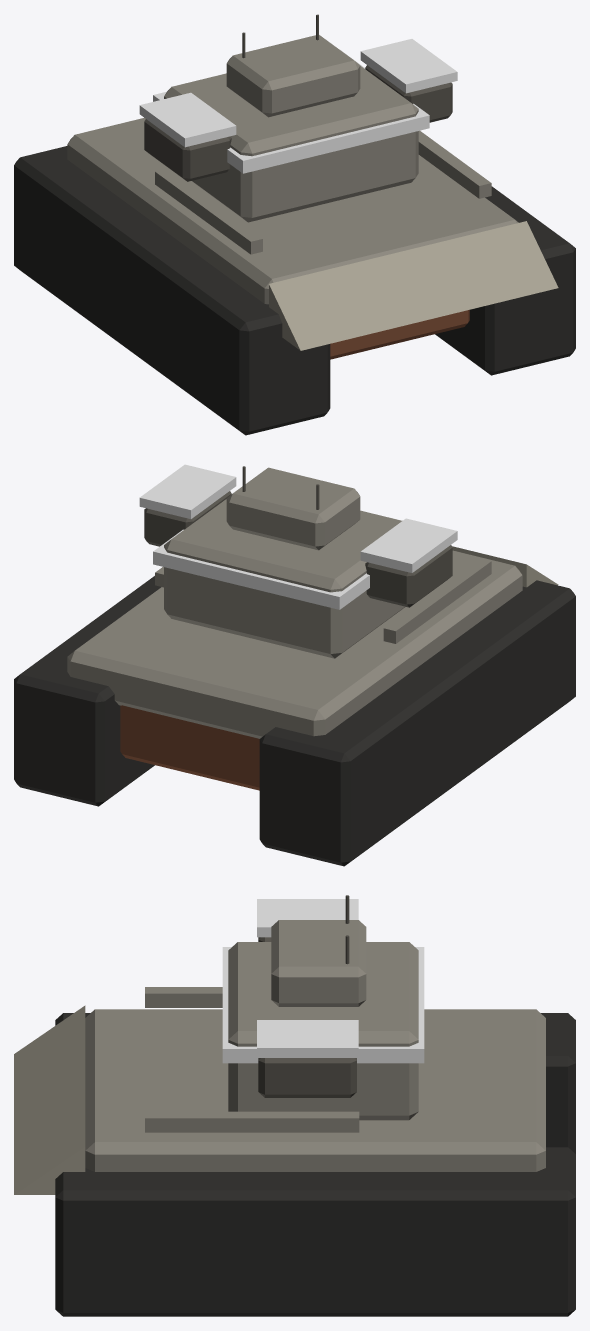
3 views of the same model, one above another, from view 1: azimuth 30°, elevation 25°; view 2: azimuth 150°, elevation 25°; view 3: azimuth 270°, elevation 25° (orthographic). The views are drawn at different scales.
Visible parts, largest first — view 1: dweller_robot_guard; view 2: dweller_robot_guard; view 3: dweller_robot_guard.
Boxes of the visible parts, box(x1,y1,x2,y2) form: dweller_robot_guard: box(14, 14, 575, 435); dweller_robot_guard: box(14, 464, 575, 866); dweller_robot_guard: box(14, 895, 575, 1316).
Size of the model in its own units: 2.74 by 2.17 by 3.54.
